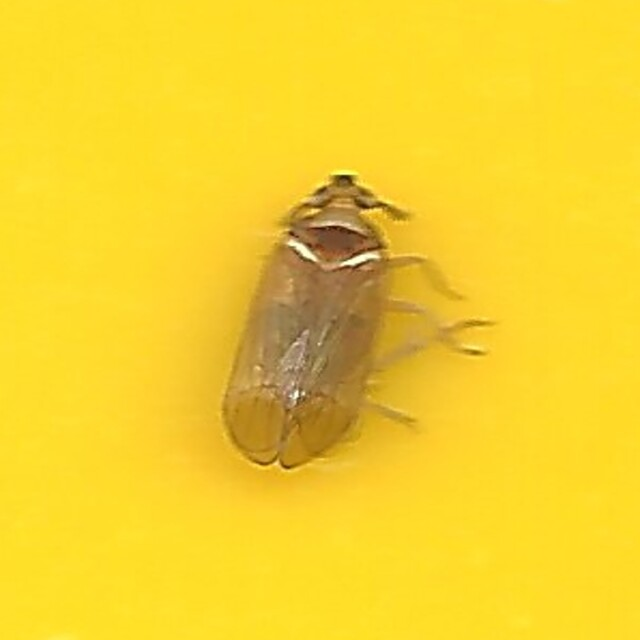Coleoptera: (215, 170, 425, 470)
